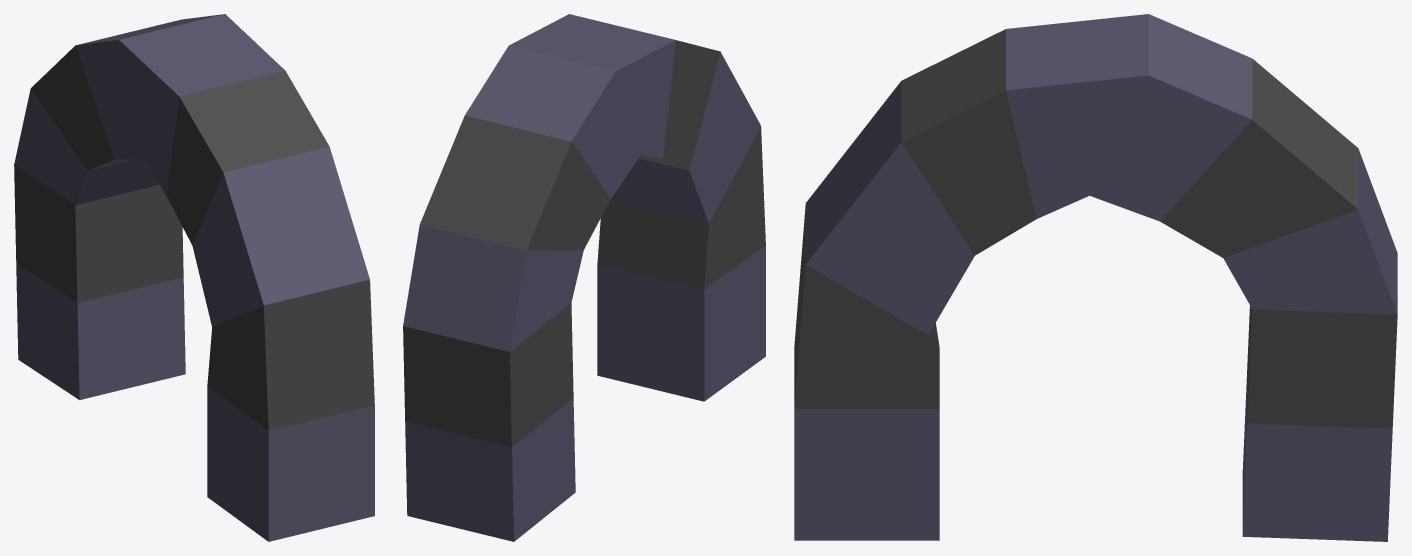
File: dungeon.glb
The picture shows the model from 3 angles, left to right: view 1: azimuth 30°, elevation 25°; view 2: azimuth 150°, elevation 25°; view 3: azimuth 270°, elevation 25°; orthographic projection. The views are drawn at different scales.
Visible parts, largest first — view 1: Cube; view 2: Cube; view 3: Cube.
Boxes of the visible parts, x1=… form: Cube: x1=14, y1=14, x2=374, y2=541; Cube: x1=403, y1=14, x2=765, y2=541; Cube: x1=794, y1=14, x2=1397, y2=541.
Size of the model in its own units: 2 by 7.08 by 8.3.
